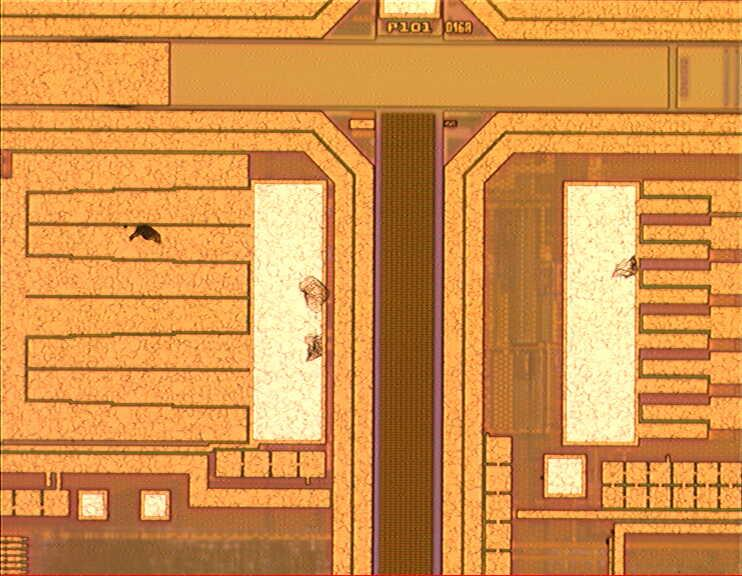PO CONTAMINATION: (120, 214, 647, 369)
